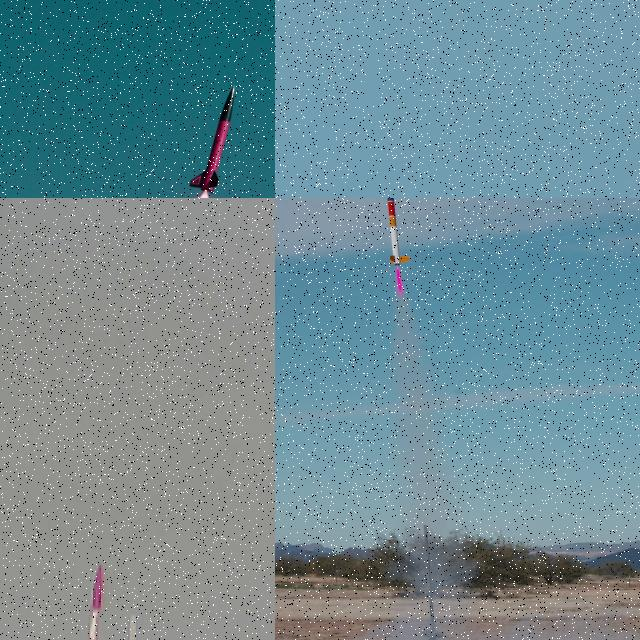Rocket: (188, 84, 235, 195), (68, 563, 108, 640), (385, 198, 411, 265)
